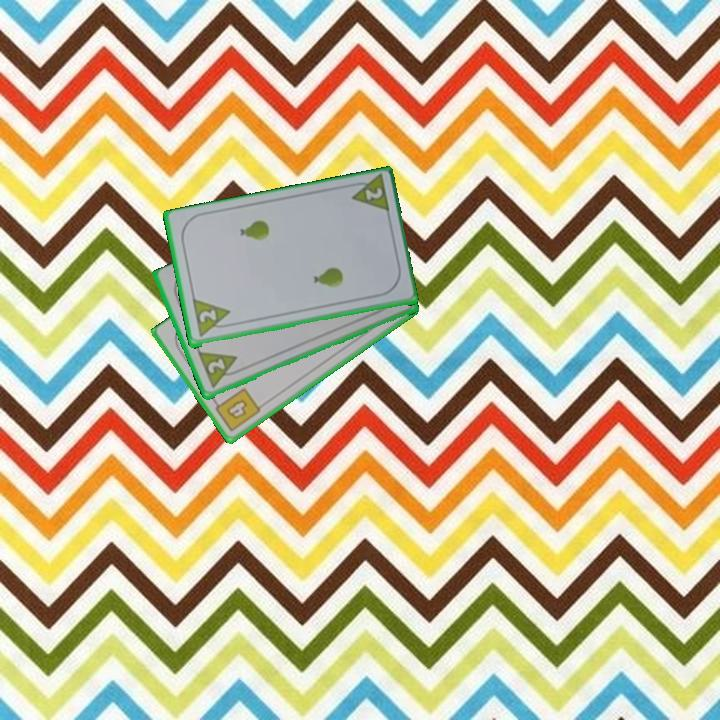2p: (194, 349, 245, 392), (345, 173, 392, 217), (195, 306, 219, 326)
4b: (209, 384, 264, 435)
